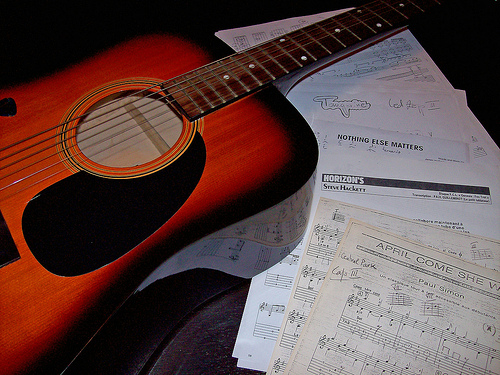guitar: (1, 1, 465, 375)
